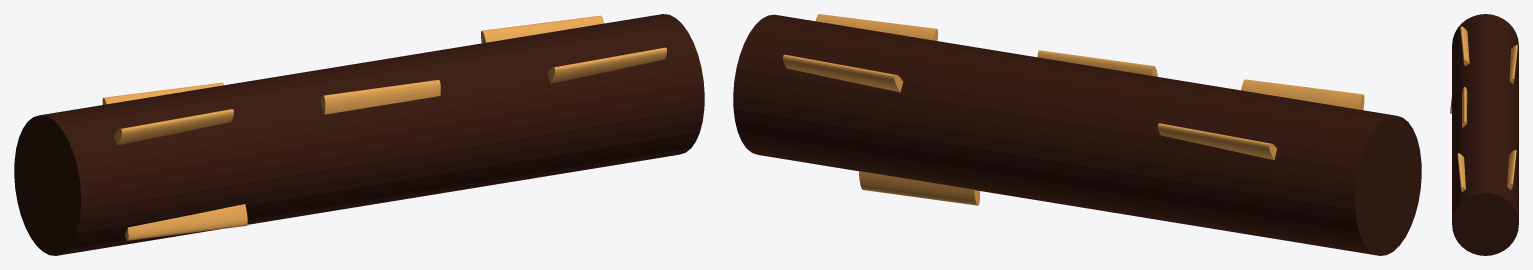
File: Log.fbx
The picture shows the model from 3 angles, left to right: view 1: azimuth 30°, elevation 25°; view 2: azimuth 150°, elevation 25°; view 3: azimuth 270°, elevation 25°; orthographic projection. The views are drawn at different scales.
Visible parts, largest first — view 1: Cylinder, Cylinder.004, Cylinder.001, Cylinder.007, Cylinder.006, Cylinder.002, Cylinder.003; view 2: Cylinder, Cylinder.005, Cylinder.002, Cylinder.007, Cylinder.003, Cylinder.006, Cylinder.001; view 3: Cylinder, Cylinder.002, Cylinder.007, Cylinder.006, Cylinder.003, Cylinder.001.
Boxes of the visible parts, box(x1,y1,x2,y2) form: Cylinder: box(14, 14, 704, 255); Cylinder.004: box(124, 204, 247, 240); Cylinder.001: box(320, 79, 440, 114); Cylinder.007: box(113, 109, 233, 145); Cylinder.006: box(547, 47, 666, 83); Cylinder.002: box(481, 15, 604, 43); Cylinder.003: box(102, 82, 223, 104); Cylinder: box(733, 14, 1421, 255); Cylinder.005: box(859, 171, 979, 205); Cylinder.002: box(783, 54, 903, 92); Cylinder.007: box(1241, 79, 1364, 109); Cylinder.003: box(1158, 123, 1277, 159); Cylinder.006: box(815, 14, 938, 40); Cylinder.001: box(1037, 50, 1157, 76); Cylinder: box(1452, 14, 1518, 255); Cylinder.002: box(1507, 150, 1516, 189); Cylinder.007: box(1460, 26, 1469, 65); Cylinder.006: box(1457, 153, 1465, 192); Cylinder.003: box(1509, 45, 1517, 83); Cylinder.001: box(1462, 87, 1467, 127).
Bounding box in the file's own units: 1103 × 308 × 206.
